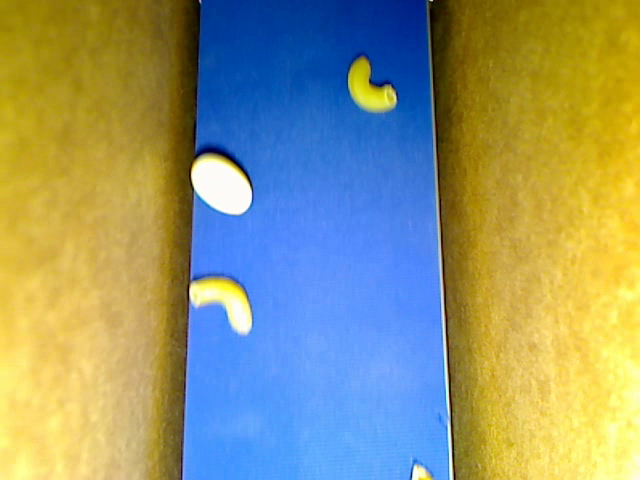elbow: (189, 273, 253, 333), (346, 56, 397, 113)
